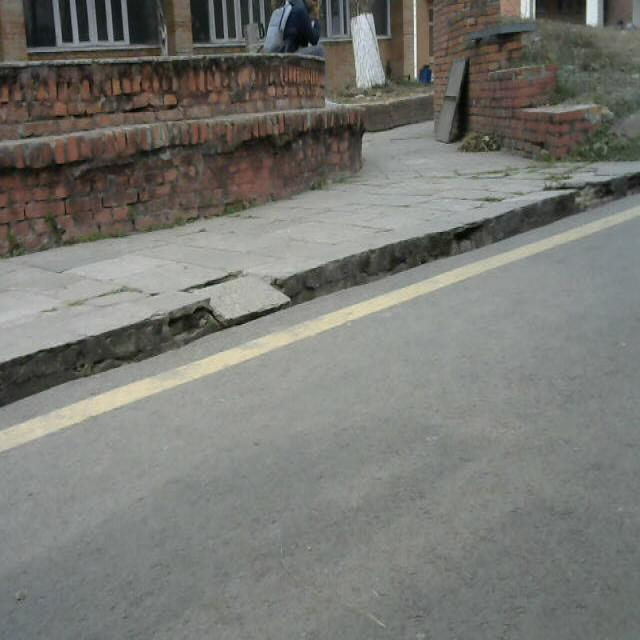Road: (5, 282, 640, 640)
